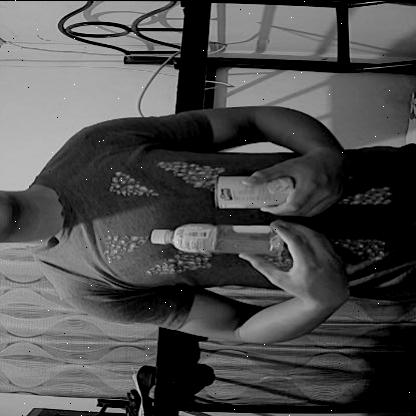Plastic Bottle: (139, 211, 287, 258)
